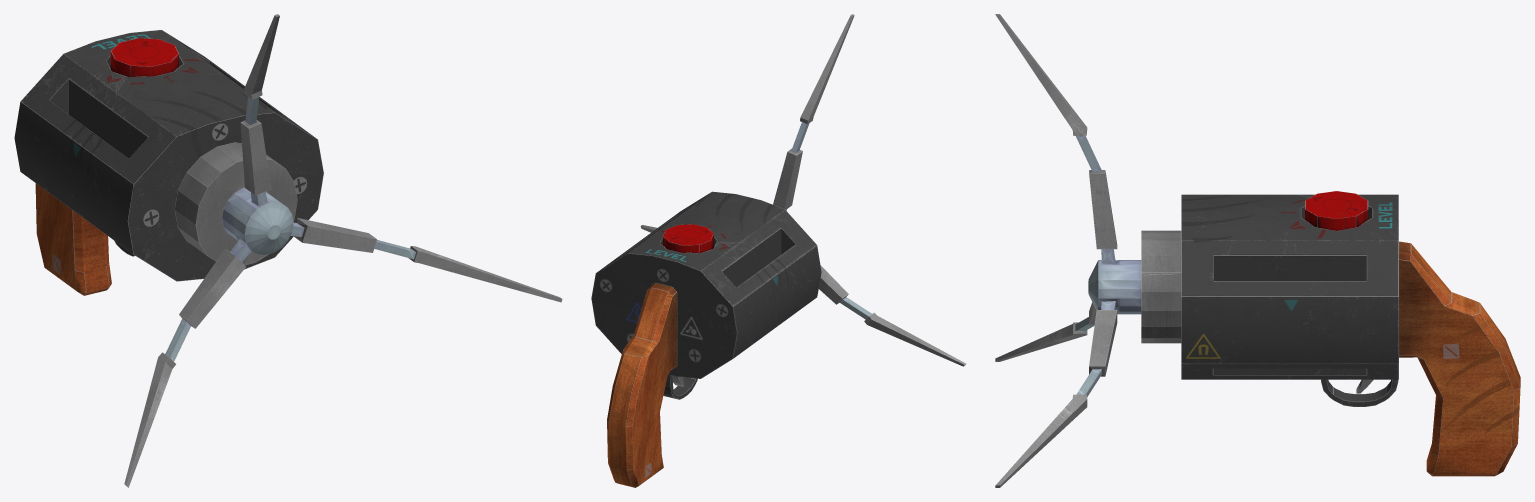
Rendered from GrappleGun.fbx.
3 views of the same model, side by side, from view 1: azimuth 30°, elevation 25°; view 2: azimuth 150°, elevation 25°; view 3: azimuth 270°, elevation 25° (orthographic). The views are drawn at different scales.
Visible parts, largest first — view 1: Cylinder001; view 2: Cylinder001; view 3: Cylinder001.
Part boxes in pixels (x1,y1,x2,y2): Cylinder001: (14, 14, 562, 487); Cylinder001: (591, 14, 966, 487); Cylinder001: (995, 14, 1520, 487).
Size of the model in its own units: 4444 by 4425 by 4828.
